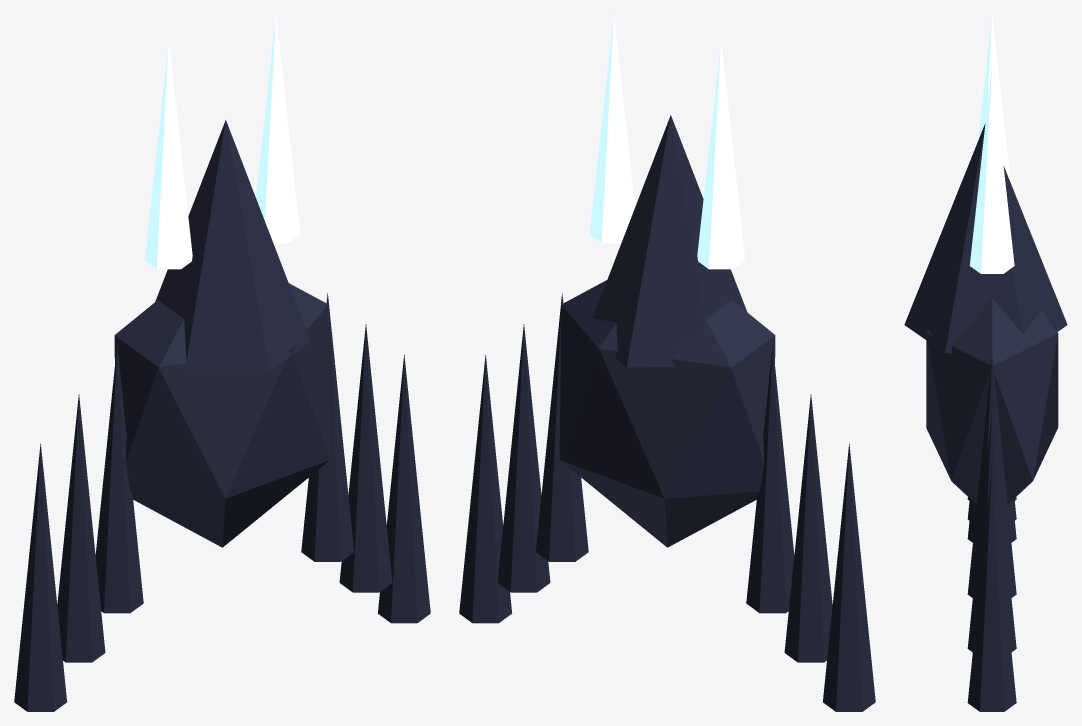
Rendered from celestial-regent-lod2.glb.
3 renders of one model, left to right at view 1: azimuth 30°, elevation 25°; view 2: azimuth 150°, elevation 25°; view 3: azimuth 270°, elevation 25°, orthographic. The views are drawn at different scales.
Visible parts, largest first — view 1: Body, Head, Claw.-1.2, Claw.-1.1, Claw.1.2, Claw.1.1, Claw.-1.0, Horn.-1, Claw.1.0, Horn.1; view 2: Body, Head, Claw.-1.2, Claw.-1.1, Claw.1.2, Claw.1.1, Claw.-1.0, Horn.-1, Claw.1.0, Horn.1; view 3: Body, Head, Claw.1.2, Horn.1, Claw.1.1, Claw.1.0, Horn.-1, Claw.-1.1.
Part boxes in pixels (bbox=[...]): Body: bbox=[114, 283, 330, 547]; Head: bbox=[155, 120, 310, 372]; Claw.-1.2: bbox=[14, 443, 66, 711]; Claw.-1.1: bbox=[57, 394, 105, 662]; Claw.1.2: bbox=[377, 355, 430, 623]; Claw.1.1: bbox=[339, 324, 392, 592]; Claw.-1.0: bbox=[95, 344, 143, 613]; Horn.-1: bbox=[144, 41, 192, 269]; Claw.1.0: bbox=[301, 293, 354, 561]; Horn.1: bbox=[256, 15, 300, 243]; Body: bbox=[559, 280, 775, 547]; Head: bbox=[593, 115, 746, 367]; Claw.-1.2: bbox=[823, 443, 875, 711]; Claw.-1.1: bbox=[784, 394, 832, 662]; Claw.1.2: bbox=[459, 355, 512, 623]; Claw.1.1: bbox=[497, 324, 550, 592]; Claw.-1.0: bbox=[746, 344, 794, 613]; Horn.-1: bbox=[697, 41, 745, 269]; Claw.1.0: bbox=[535, 293, 588, 561]; Horn.1: bbox=[589, 15, 634, 243]; Body: bbox=[926, 298, 1058, 504]; Head: bbox=[904, 124, 1067, 353]; Claw.1.2: bbox=[967, 463, 1016, 711]; Horn.1: bbox=[969, 63, 1014, 273]; Claw.1.1: bbox=[967, 408, 1016, 652]; Claw.1.0: bbox=[967, 354, 1016, 597]; Horn.-1: bbox=[978, 14, 1010, 181]; Claw.-1.1: bbox=[967, 501, 1016, 524].
Bounding box in the file's own units: 3.48 × 5.2 × 1.32.
